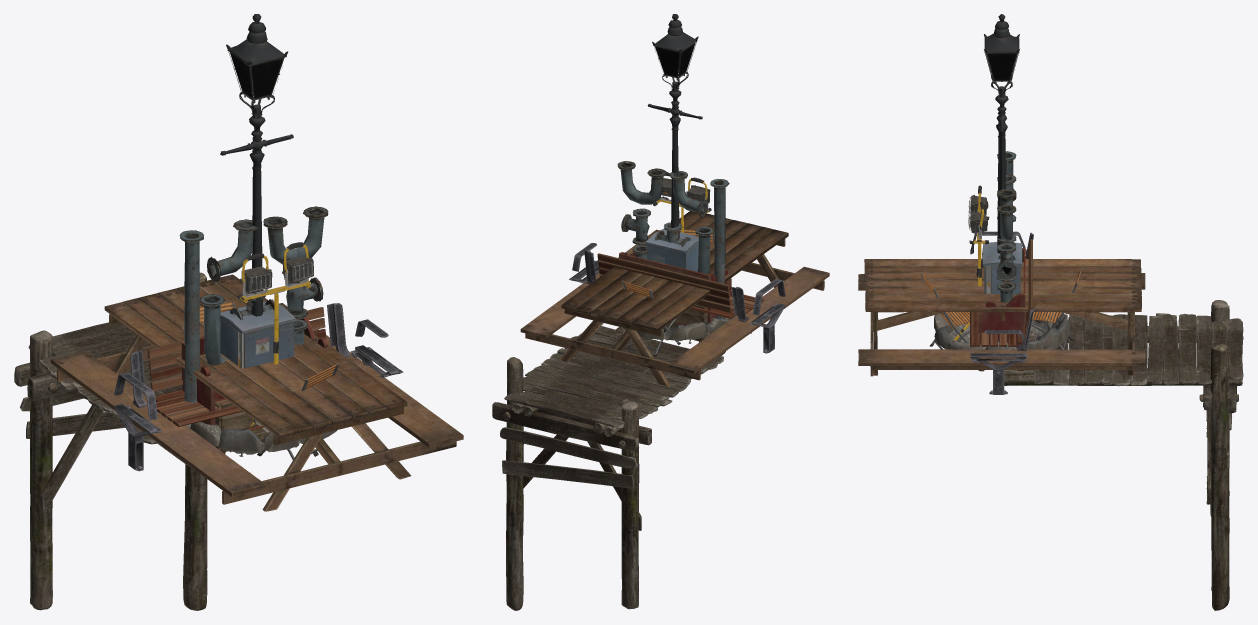
The model's file is props.glb.
The picture shows the model from 3 angles, left to right: view 1: azimuth 30°, elevation 25°; view 2: azimuth 150°, elevation 25°; view 3: azimuth 270°, elevation 25°; orthographic projection. The views are drawn at different scales.
Parts seen in each view (by area): view 1: prop_picnic, prop_pier_end, prop_pipes, prop_seating, prop_pier, prop_lamp, prop_utility, prop_flood, prop_firepit, prop_bench, prop_planter, prop_cafe; view 2: prop_pier, prop_picnic, prop_pier_end, prop_pipes, prop_seating, prop_lamp, prop_utility, prop_firepit, prop_flood, prop_bench, prop_cafe, prop_planter; view 3: prop_picnic, prop_pier, prop_pier_end, prop_seating, prop_lamp, prop_pipes, prop_firepit, prop_bench, prop_utility, prop_cafe, prop_flood.
Boxes of the visible parts, x1,y1,x2,y2 form: prop_picnic: [50, 274, 463, 511]; prop_pier_end: [14, 272, 207, 610]; prop_pipes: [179, 206, 328, 402]; prop_seating: [114, 303, 403, 471]; prop_pier: [14, 322, 207, 610]; prop_lamp: [220, 14, 293, 316]; prop_utility: [220, 301, 295, 368]; prop_flood: [229, 242, 318, 456]; prop_firepit: [181, 384, 337, 454]; prop_bench: [181, 316, 327, 430]; prop_planter: [215, 402, 267, 453]; prop_cafe: [199, 301, 338, 459]; prop_pier: [492, 326, 723, 610]; prop_picnic: [520, 211, 829, 386]; prop_pier_end: [500, 327, 725, 609]; prop_pipes: [617, 161, 729, 319]; prop_seating: [569, 243, 785, 353]; prop_lamp: [647, 14, 702, 238]; prop_utility: [645, 228, 698, 271]; prop_firepit: [623, 291, 735, 340]; prop_flood: [653, 171, 711, 351]; prop_bench: [619, 252, 731, 331]; prop_cafe: [621, 229, 714, 356]; prop_planter: [663, 304, 707, 342]; prop_picnic: [858, 259, 1145, 376]; prop_pier: [1004, 300, 1243, 610]; prop_pier_end: [1004, 302, 1243, 591]; prop_seating: [970, 231, 1033, 394]; prop_lamp: [984, 14, 1019, 253]; prop_pipes: [997, 151, 1016, 302]; prop_firepit: [934, 312, 1069, 349]; prop_bench: [978, 248, 1025, 371]; prop_utility: [982, 241, 1022, 294]; prop_cafe: [920, 267, 1083, 349]; prop_flood: [954, 185, 989, 340].
Size of the model in its own units: 1.52 by 4.07 by 2.51.
22 materials, 22 textured.
